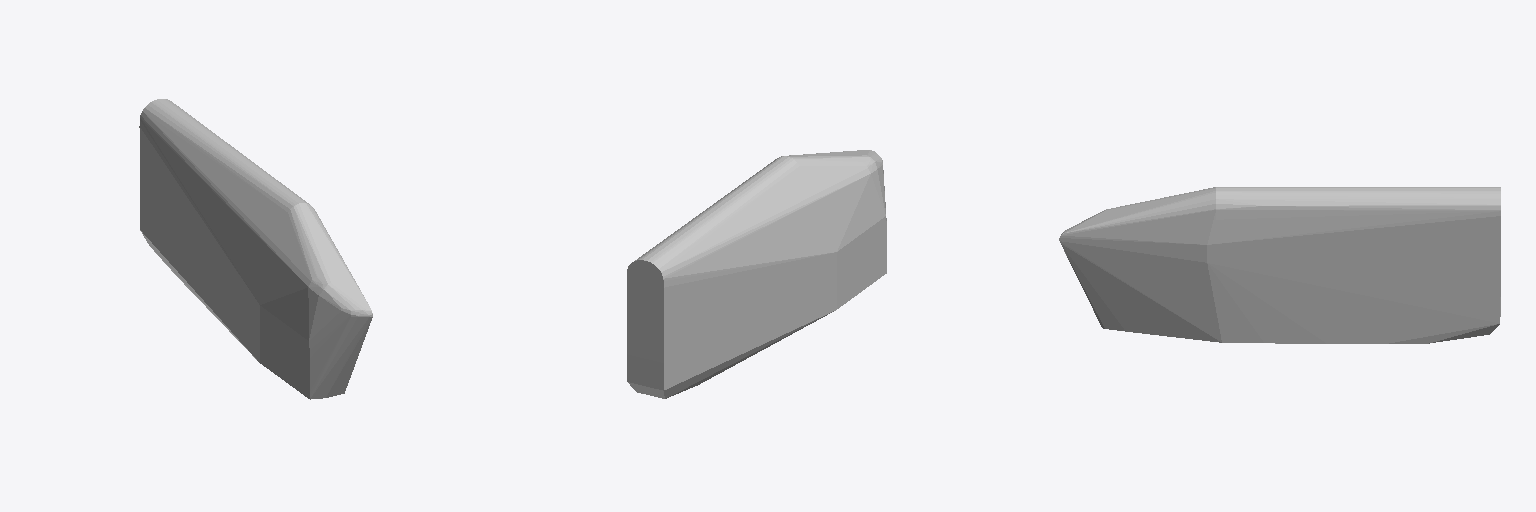
The model's file is Toaster_24_collision_17.obj.
The picture shows the model from 3 angles: view 1: azimuth 30°, elevation 25°; view 2: azimuth 150°, elevation 25°; view 3: azimuth 270°, elevation 25°; orthographic projection.
Size of the model in its own units: 0.0511 by 0.1096 by 0.2998.